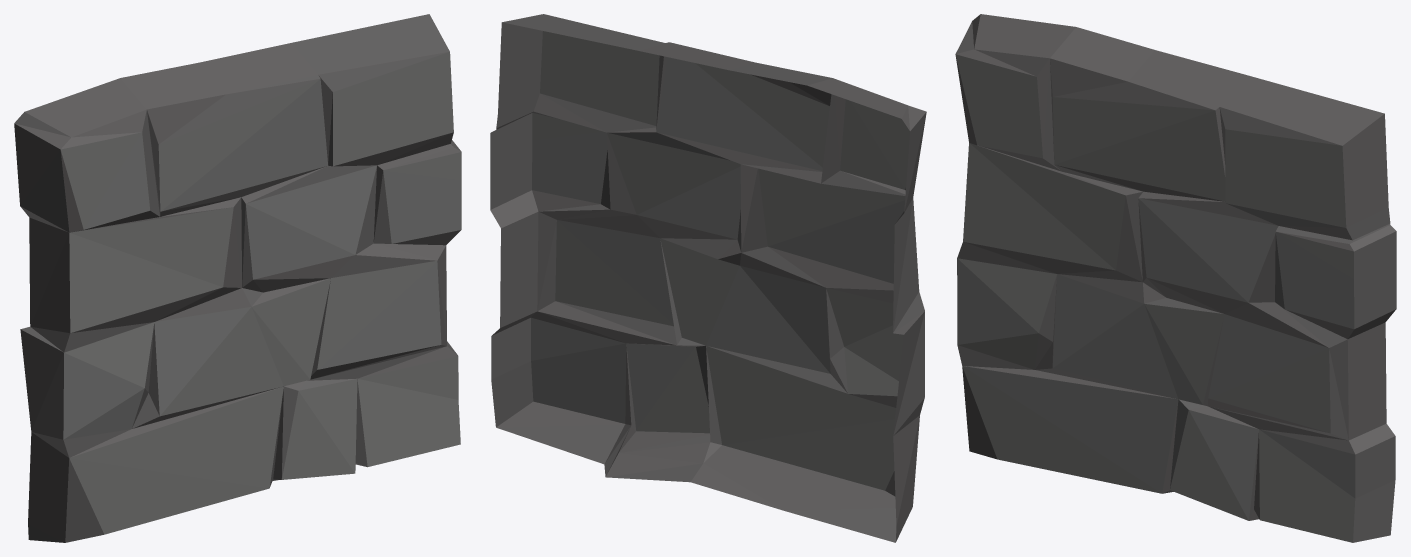
Rendered from SM_Env_Wall_Quarter_01.FBX.
3 views of the same model, side by side, from view 1: azimuth 30°, elevation 25°; view 2: azimuth 150°, elevation 25°; view 3: azimuth 330°, elevation 25° (orthographic).
Parts seen in each view (by area): view 1: SM_Env_Wall_Quarter_01; view 2: SM_Env_Wall_Quarter_01; view 3: SM_Env_Wall_Quarter_01.
Part boxes in pixels (left/top/right/bottom): SM_Env_Wall_Quarter_01: left=14, top=14, right=461, bottom=542; SM_Env_Wall_Quarter_01: left=490, top=14, right=926, bottom=542; SM_Env_Wall_Quarter_01: left=955, top=14, right=1396, bottom=542.
Size of what is drawn, in the model's own units: 272 by 42.21 by 271.
